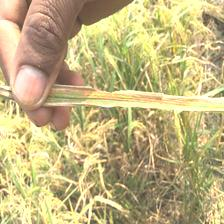2 BacterialBlight: (48, 79, 217, 126)
